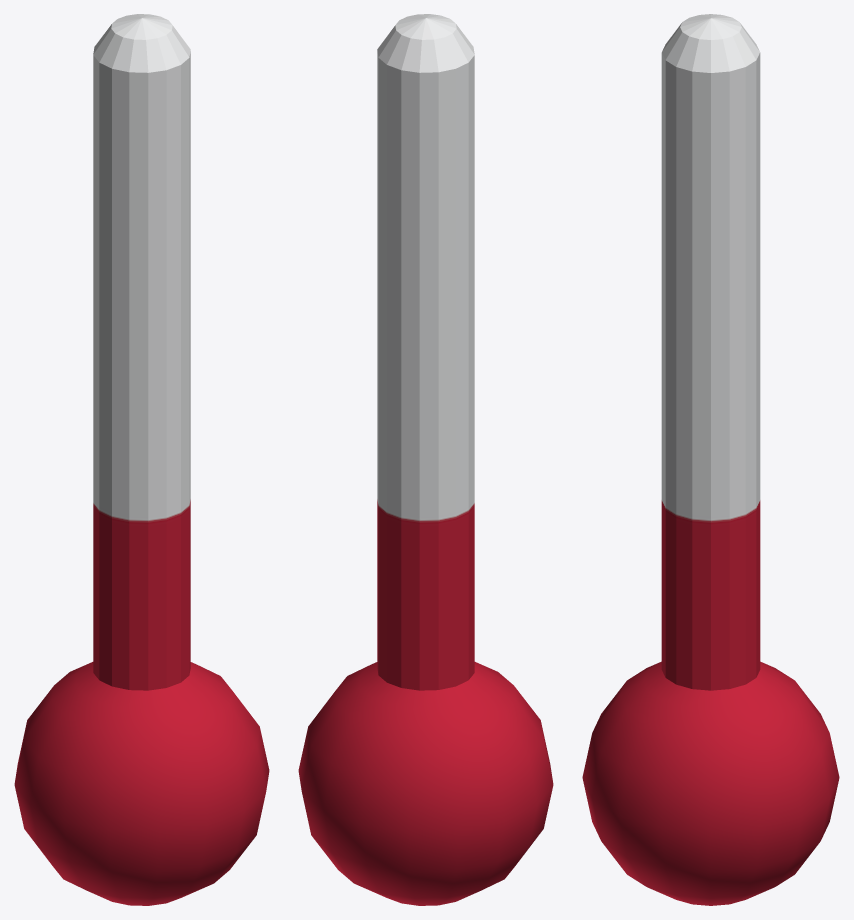
3 views of the same model, side by side, from view 1: azimuth 30°, elevation 25°; view 2: azimuth 150°, elevation 25°; view 3: azimuth 270°, elevation 25° (orthographic).
Visible parts, largest first — view 1: Termometro; view 2: Termometro; view 3: Termometro.
Boxes of the visible parts, x1,y1,x2,y2 form: Termometro: (14,14,269,905); Termometro: (298,14,553,905); Termometro: (582,14,839,905).
Size of the model in its own units: 1.76 by 6.63 by 1.76.
1 material, 1 textured.
